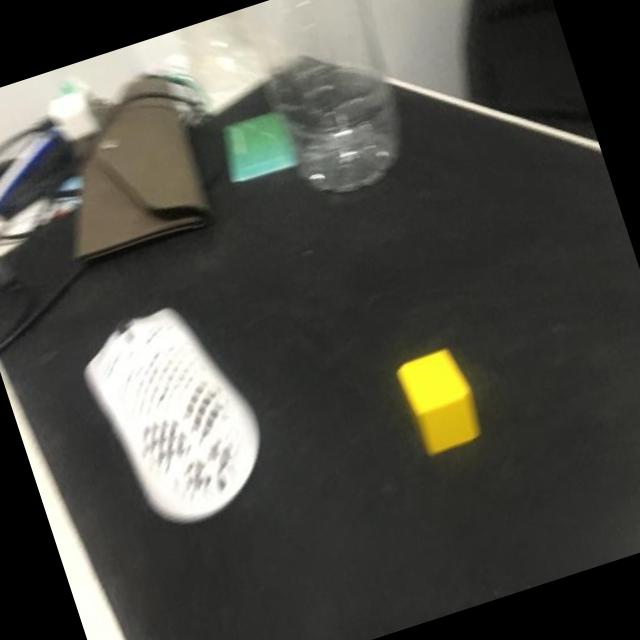yellow: (396, 345, 488, 458)
